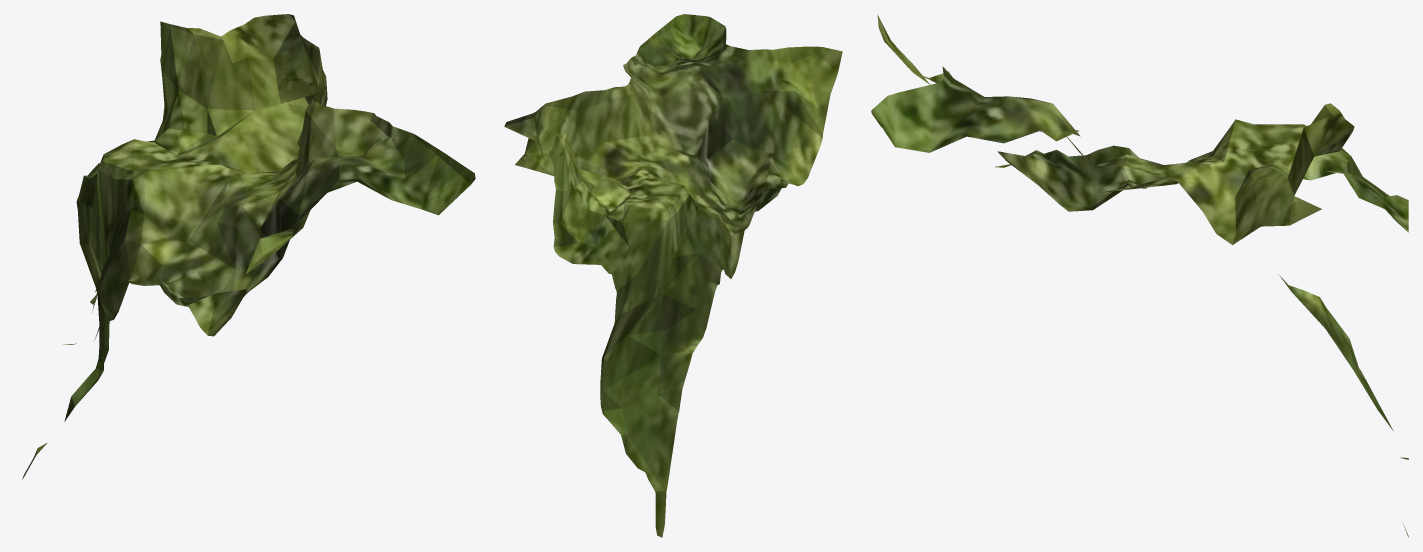
3 views of the same model, side by side, from view 1: azimuth 30°, elevation 25°; view 2: azimuth 150°, elevation 25°; view 3: azimuth 270°, elevation 25° (orthographic). The views are drawn at different scales.
Size of the model in its own units: 1.33 by 2.49 by 2.32.
2 materials, 2 textured.
